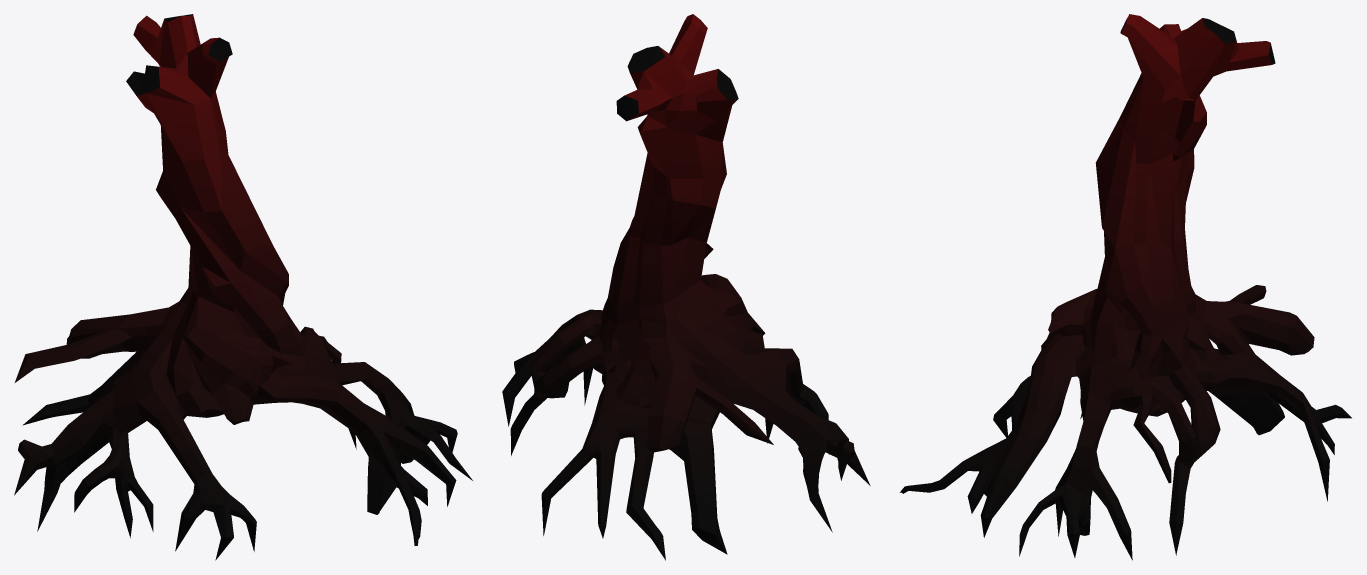
Rendered from SM_Env_Tree_House_01_Collision.fbx.
3 renders of one model, left to right at view 1: azimuth 30°, elevation 25°; view 2: azimuth 150°, elevation 25°; view 3: azimuth 270°, elevation 25°, orthographic.
Visible parts, largest first — view 1: SM_Env_Tree_House_01_Collision; view 2: SM_Env_Tree_House_01_Collision; view 3: SM_Env_Tree_House_01_Collision.
Part boxes in pixels (bbox=[...]): SM_Env_Tree_House_01_Collision: bbox=[14, 14, 472, 560]; SM_Env_Tree_House_01_Collision: bbox=[502, 14, 870, 560]; SM_Env_Tree_House_01_Collision: bbox=[899, 14, 1351, 560].
Size of the model in its own units: 1058 by 1195 by 1044.
